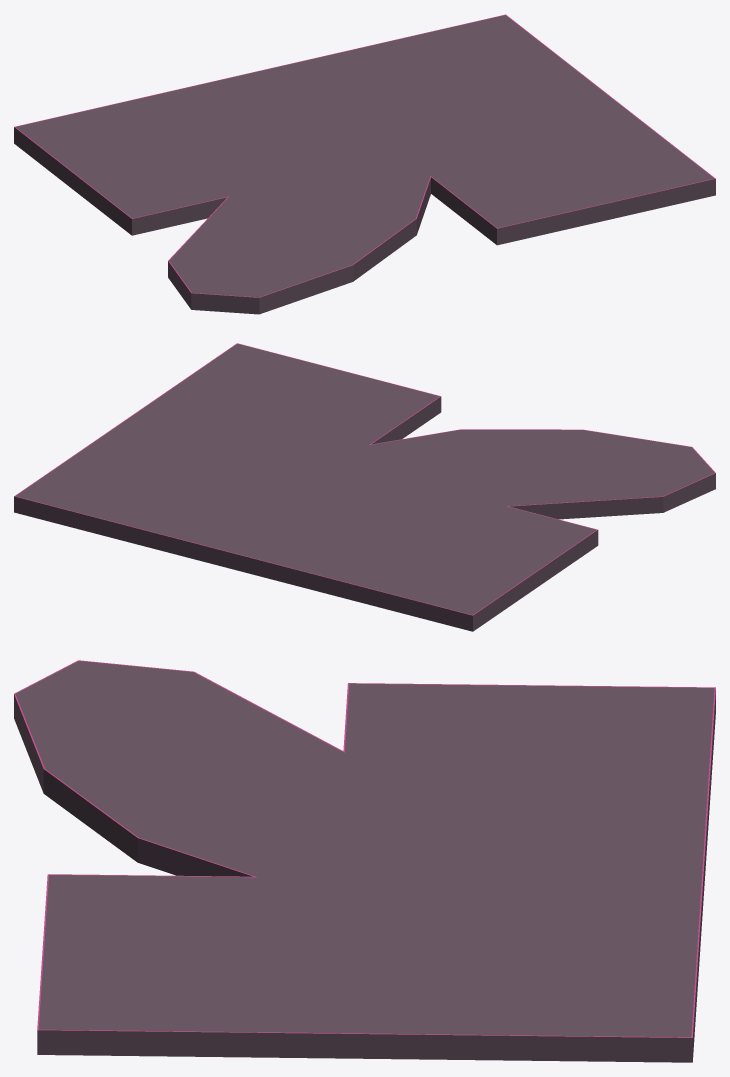
Rendered from way-205656859.glb.
The picture shows the model from 3 angles, top to bottom: view 1: azimuth 30°, elevation 25°; view 2: azimuth 150°, elevation 25°; view 3: azimuth 270°, elevation 25°; orthographic projection. The views are drawn at different scales.
Visible parts, largest first — view 1: way-205656859; view 2: way-205656859; view 3: way-205656859.
Boxes of the visible parts, box(x1,y1,x2,y2) form: way-205656859: box(14, 14, 715, 314); way-205656859: box(14, 343, 715, 631); way-205656859: box(14, 660, 715, 1062).
Bounding box in the file's own units: 98.26 × 3 × 77.17.
